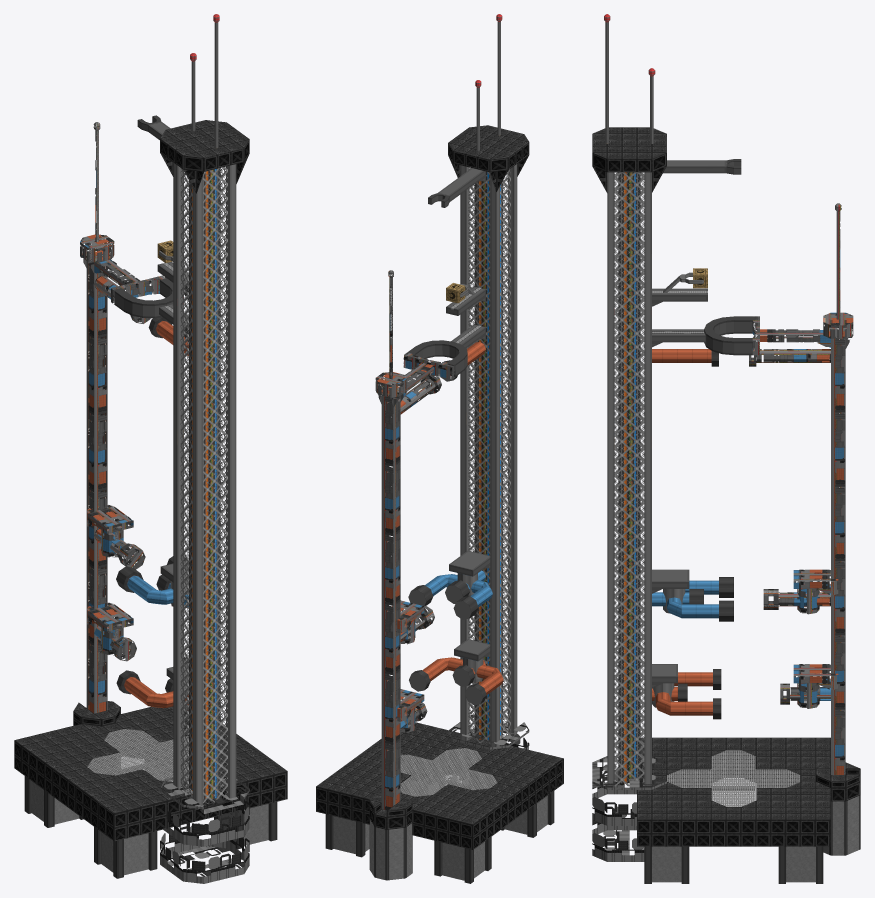
File: soyuz_launch_platform.obj
3 views of the same model, side by side, from view 1: azimuth 30°, elevation 25°; view 2: azimuth 150°, elevation 25°; view 3: azimuth 270°, elevation 25° (orthographic). The views are drawn at different scales.
Visible parts, largest first — view 1: Cube.003_Cube.009; view 2: Cube.003_Cube.009; view 3: Cube.003_Cube.009.
Boxes of the visible parts, x1,y1,x2,y2 form: Cube.003_Cube.009: (14,14,287,883); Cube.003_Cube.009: (316,14,563,883); Cube.003_Cube.009: (592,14,860,883).
Bounding box in the file's own units: 13 × 61.5 × 18.
